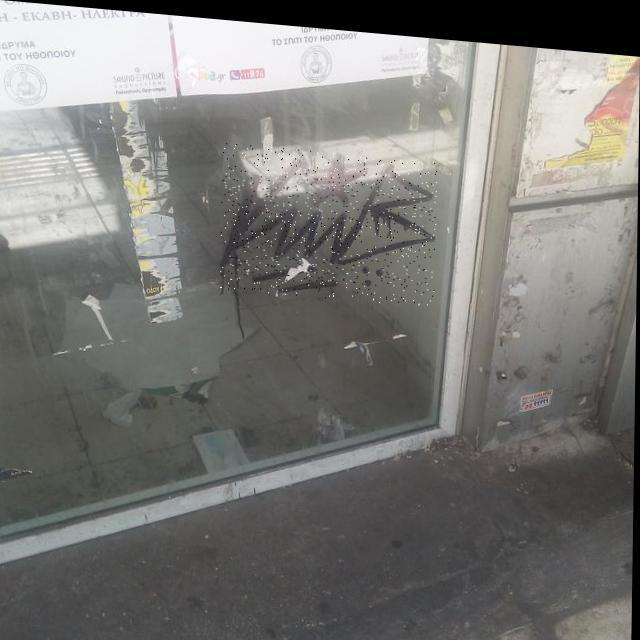-: (220, 138, 438, 300)
